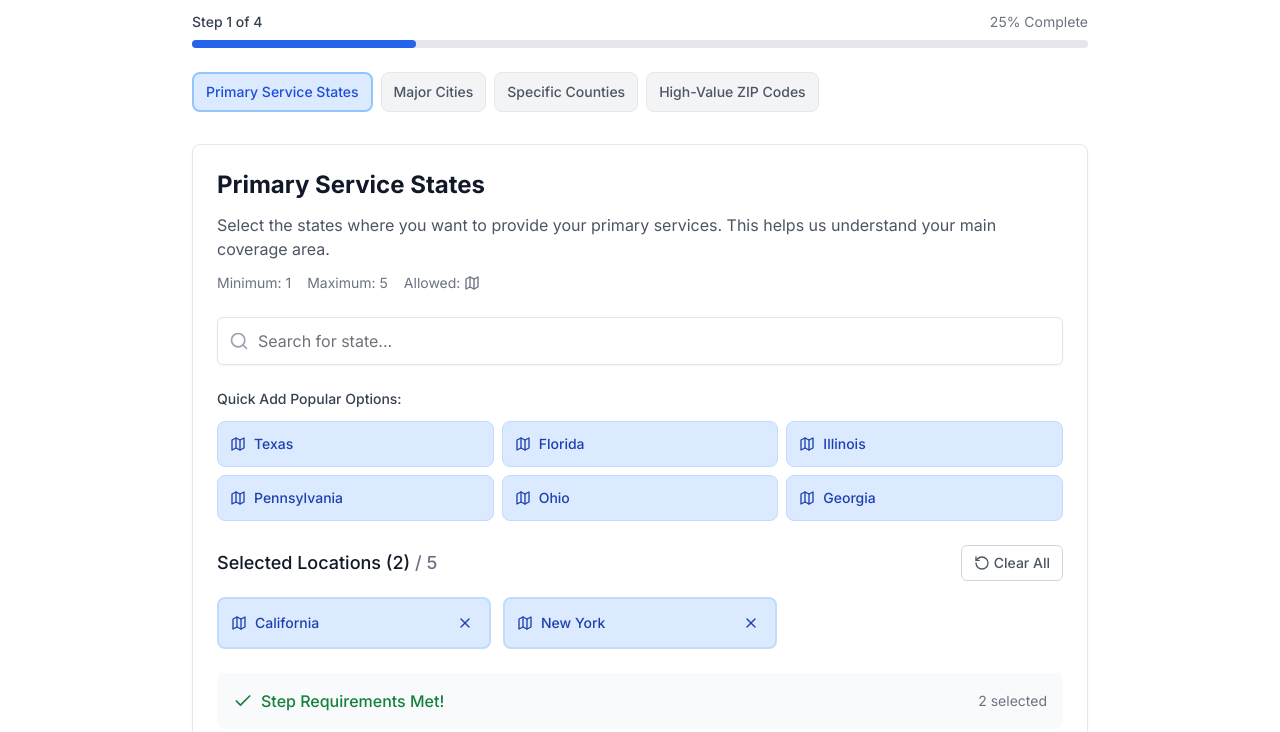
Scenario: QuizLocationChooser › clears all selections
Note: Find clear all button
Click the button "Clear All": (1012, 563) [961, 545, 1063, 581]
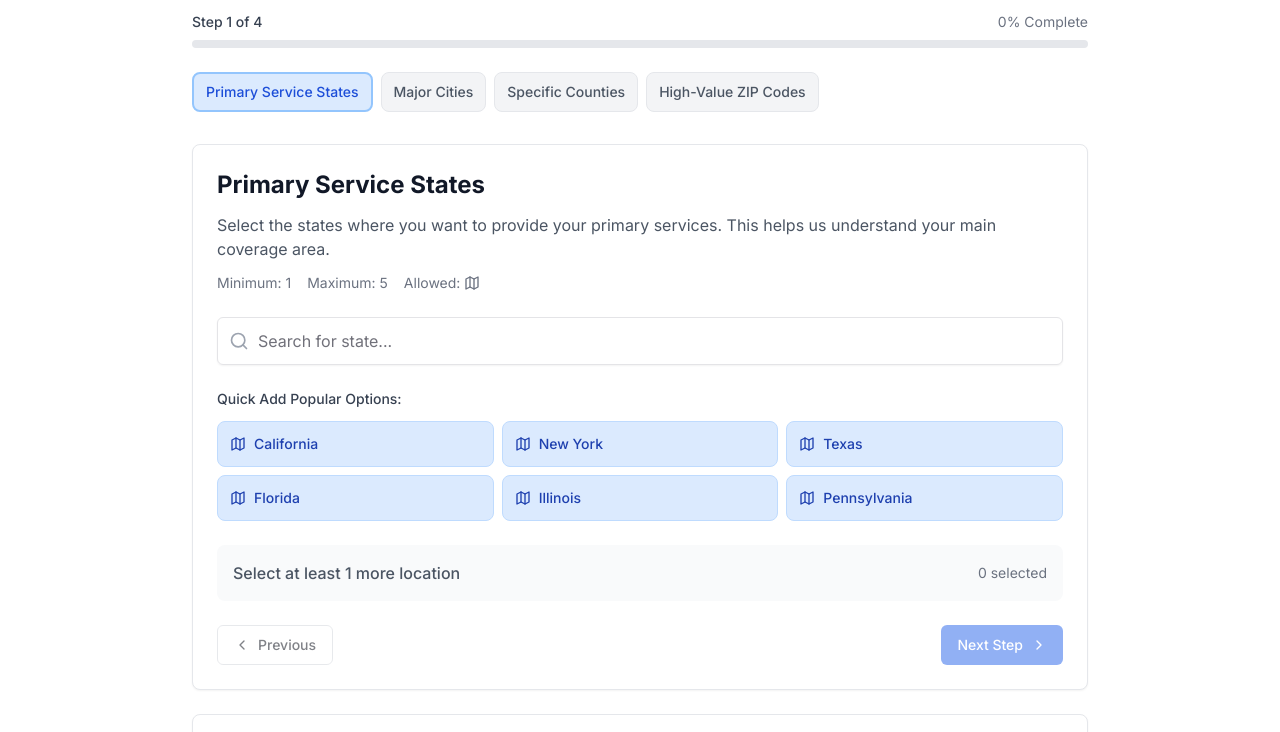
Check: the heading "Selected Locations" is gone
